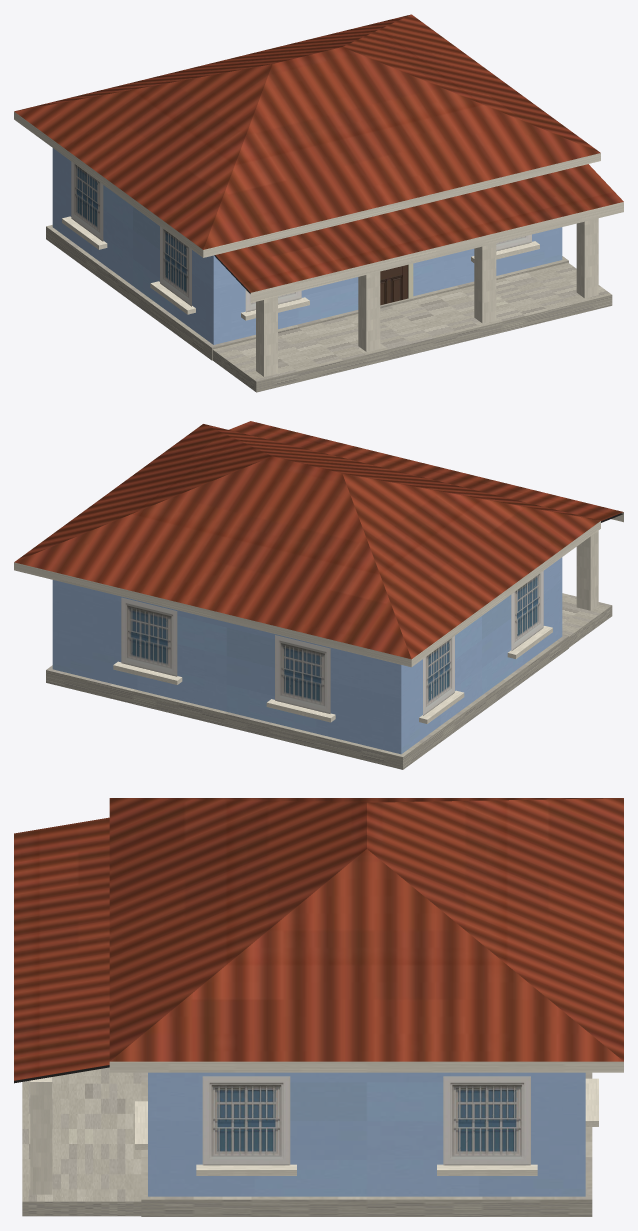
The model's file is bungalow-sky.glb.
The picture shows the model from 3 angles, top to bottom: view 1: azimuth 30°, elevation 25°; view 2: azimuth 150°, elevation 25°; view 3: azimuth 270°, elevation 25°; orthographic projection. The views are drawn at different scales.
Parts seen in each view (by area): view 1: bungalow-sky; view 2: bungalow-sky; view 3: bungalow-sky.
Boxes of the visible parts, left/top/right/bottom form: bungalow-sky: left=14, top=14, right=623, bottom=392; bungalow-sky: left=14, top=421, right=623, bottom=769; bungalow-sky: left=14, top=798, right=623, bottom=1216.
Bounding box in the file's own units: 11.4 × 5.5 × 11.15.
1 material, 1 textured.
